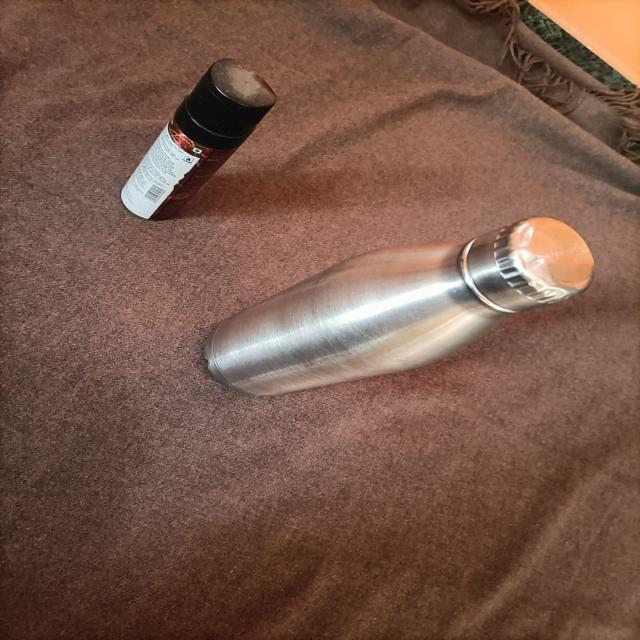bottle: (192, 212, 604, 412)
spray: (103, 46, 310, 253)
